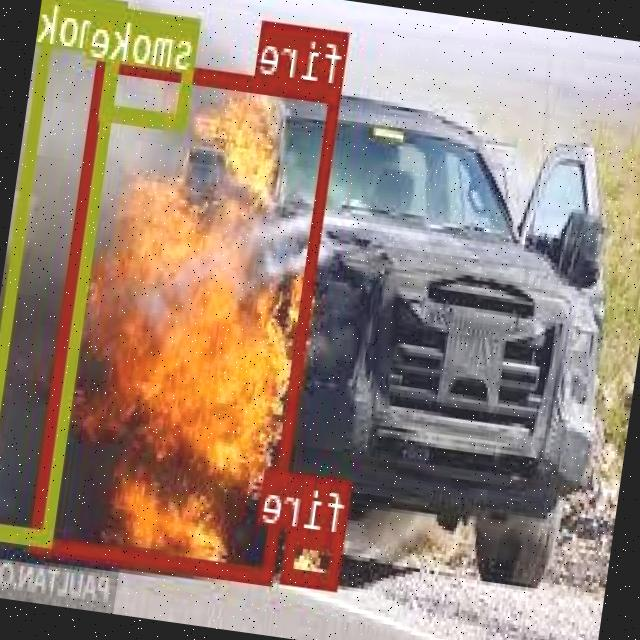fire: (31, 54, 344, 581), (284, 528, 346, 586)
smoke: (0, 0, 130, 544), (102, 5, 203, 128)
